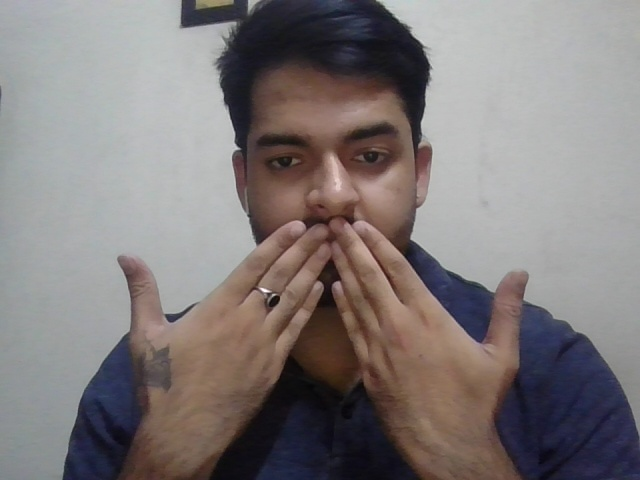thanks: (116, 215, 532, 453)
